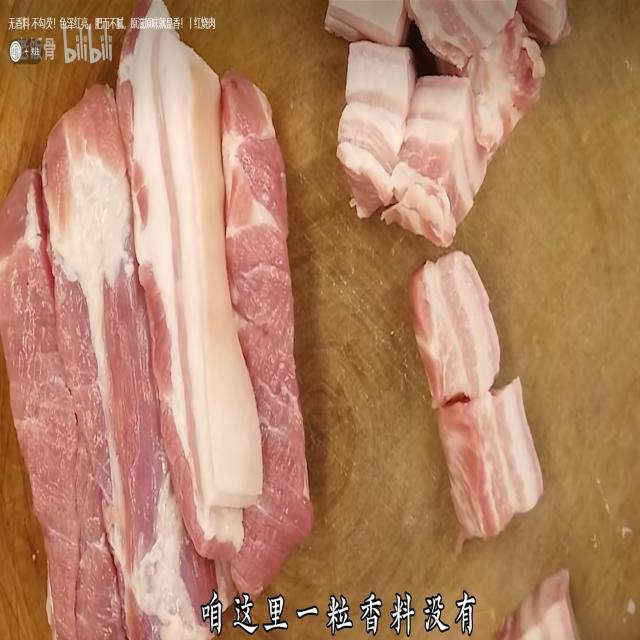pork: (15, 92, 311, 562), (411, 236, 535, 549), (346, 32, 485, 234)
